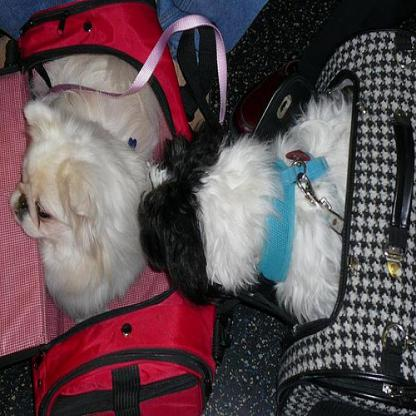dog: (137, 80, 353, 320), (8, 51, 162, 318)
